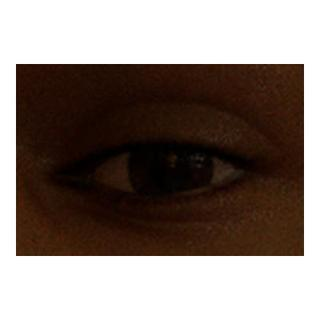pupil: (150, 148, 189, 188)
